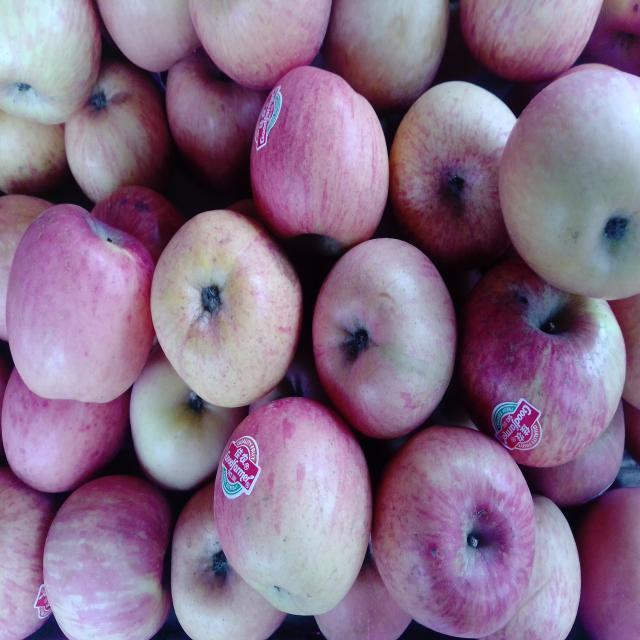Fresh Apple: (375, 423, 535, 640), (208, 395, 365, 608), (3, 202, 154, 402), (503, 75, 640, 293), (460, 290, 612, 465), (155, 214, 288, 388), (246, 77, 382, 240), (325, 254, 445, 418), (48, 483, 171, 640), (2, 12, 102, 132)
